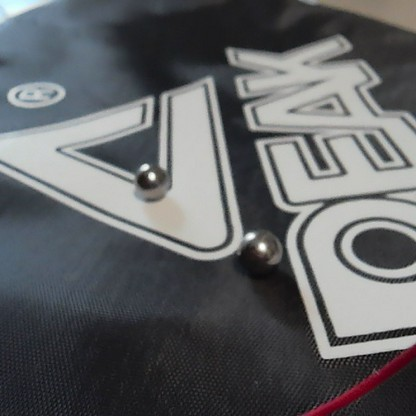ironball: (238, 229, 283, 277), (134, 164, 168, 200)
